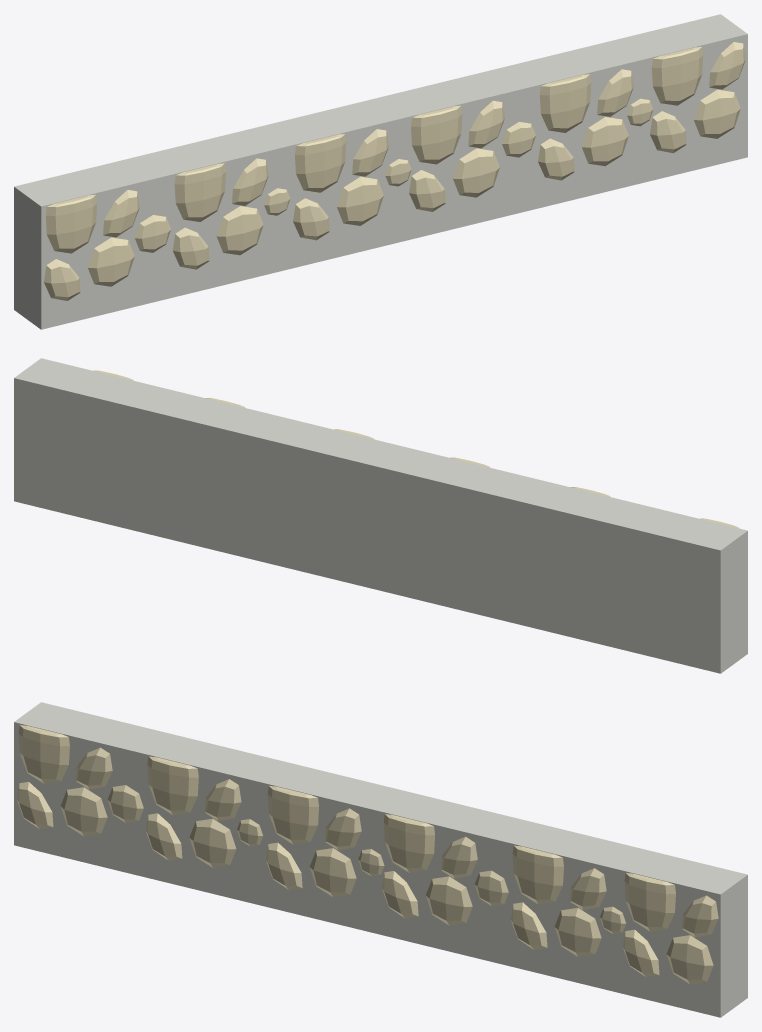
Rendered from muri.fbx.
3 renders of one model, top to bottom at view 1: azimuth 30°, elevation 25°; view 2: azimuth 150°, elevation 25°; view 3: azimuth 330°, elevation 25°, orthographic.
Parts seen in each view (by area): view 1: Cube, Cube.014, Cube.010, Cube.002, Cube.018, Cube.022, Cube.006, Cube.019, Cube.003, Cube.007, Cube.015, Cube.023 (+18 smaller); view 2: Cube; view 3: Cube, Cube.022, Cube.006, Cube.010, Cube.014, Cube.018, Cube.002, Cube.003, Cube.011, Cube.015, Cube.023, Cube.007 (+18 smaller).
Part boxes in pixels (bbox=[...]): Cube: bbox=[14, 14, 747, 329]; Cube.014: bbox=[411, 105, 462, 164]; Cube.010: bbox=[295, 134, 346, 192]; Cube.002: bbox=[45, 194, 97, 253]; Cube.018: bbox=[539, 74, 591, 132]; Cube.022: bbox=[651, 47, 703, 105]; Cube.006: bbox=[174, 163, 225, 221]; Cube.019: bbox=[582, 117, 628, 166]; Cube.003: bbox=[88, 237, 134, 286]; Cube.007: bbox=[216, 206, 263, 255]; Cube.015: bbox=[453, 148, 499, 197]; Cube.023: bbox=[694, 89, 740, 138]; Cube: bbox=[14, 358, 747, 673]; Cube: bbox=[14, 702, 747, 1017]; Cube.022: bbox=[624, 873, 675, 931]; Cube.006: bbox=[147, 756, 198, 815]; Cube.010: bbox=[267, 786, 318, 844]; Cube.014: bbox=[383, 814, 434, 872]; Cube.018: bbox=[512, 845, 563, 904]; Cube.002: bbox=[18, 725, 69, 783]; Cube.003: bbox=[60, 787, 107, 836]; Cube.011: bbox=[309, 848, 356, 897]; Cube.015: bbox=[425, 876, 472, 925]; Cube.023: bbox=[666, 935, 713, 984]; Cube.007: bbox=[189, 818, 236, 867].
Bounding box in the file's own units: 600 × 100 × 45.87.
